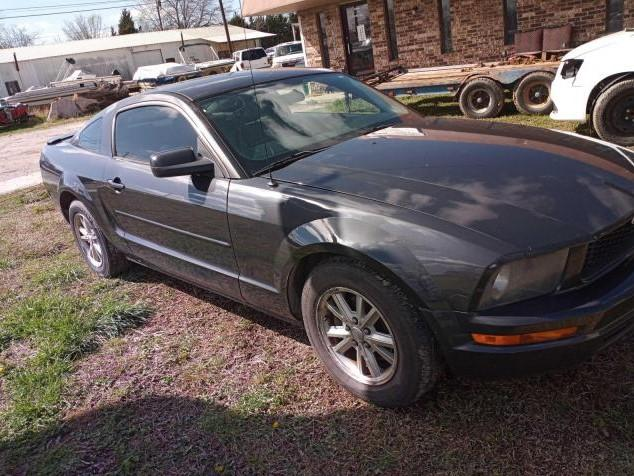Back-wheel: (69, 201, 131, 278)
Back-window: (77, 118, 101, 155)
Fender: (227, 177, 525, 319)
Front-bumper: (421, 245, 633, 376)
Front-door: (101, 101, 247, 304)
Front-wheel: (302, 255, 444, 406)
Front-window: (115, 106, 196, 162)
Grille: (580, 219, 633, 278)
Headlight: (477, 250, 569, 313)
Hood: (262, 119, 634, 254)
Mirror: (150, 146, 212, 178)
Quarter-panel: (38, 145, 129, 256)
Rocker-panel: (126, 255, 304, 328)
Roof: (120, 68, 334, 102)
Trunk: (46, 129, 76, 143)
Windshield: (196, 73, 422, 178)
